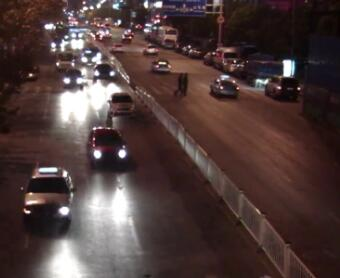bus: (150, 23, 176, 48), (142, 22, 155, 45)
car: (18, 166, 76, 233), (85, 126, 129, 166), (243, 51, 282, 87), (264, 74, 301, 101), (106, 91, 136, 120), (212, 45, 244, 69), (209, 75, 240, 98), (91, 62, 115, 82), (60, 68, 85, 87), (55, 48, 76, 70), (80, 46, 101, 65), (150, 57, 172, 74), (223, 57, 245, 74), (20, 63, 39, 80), (187, 45, 204, 58), (50, 36, 65, 49), (110, 41, 125, 54), (142, 42, 157, 54), (179, 43, 191, 56), (71, 28, 84, 39), (202, 50, 213, 63), (124, 27, 135, 37), (102, 28, 112, 39), (91, 32, 103, 41), (121, 32, 131, 40)
